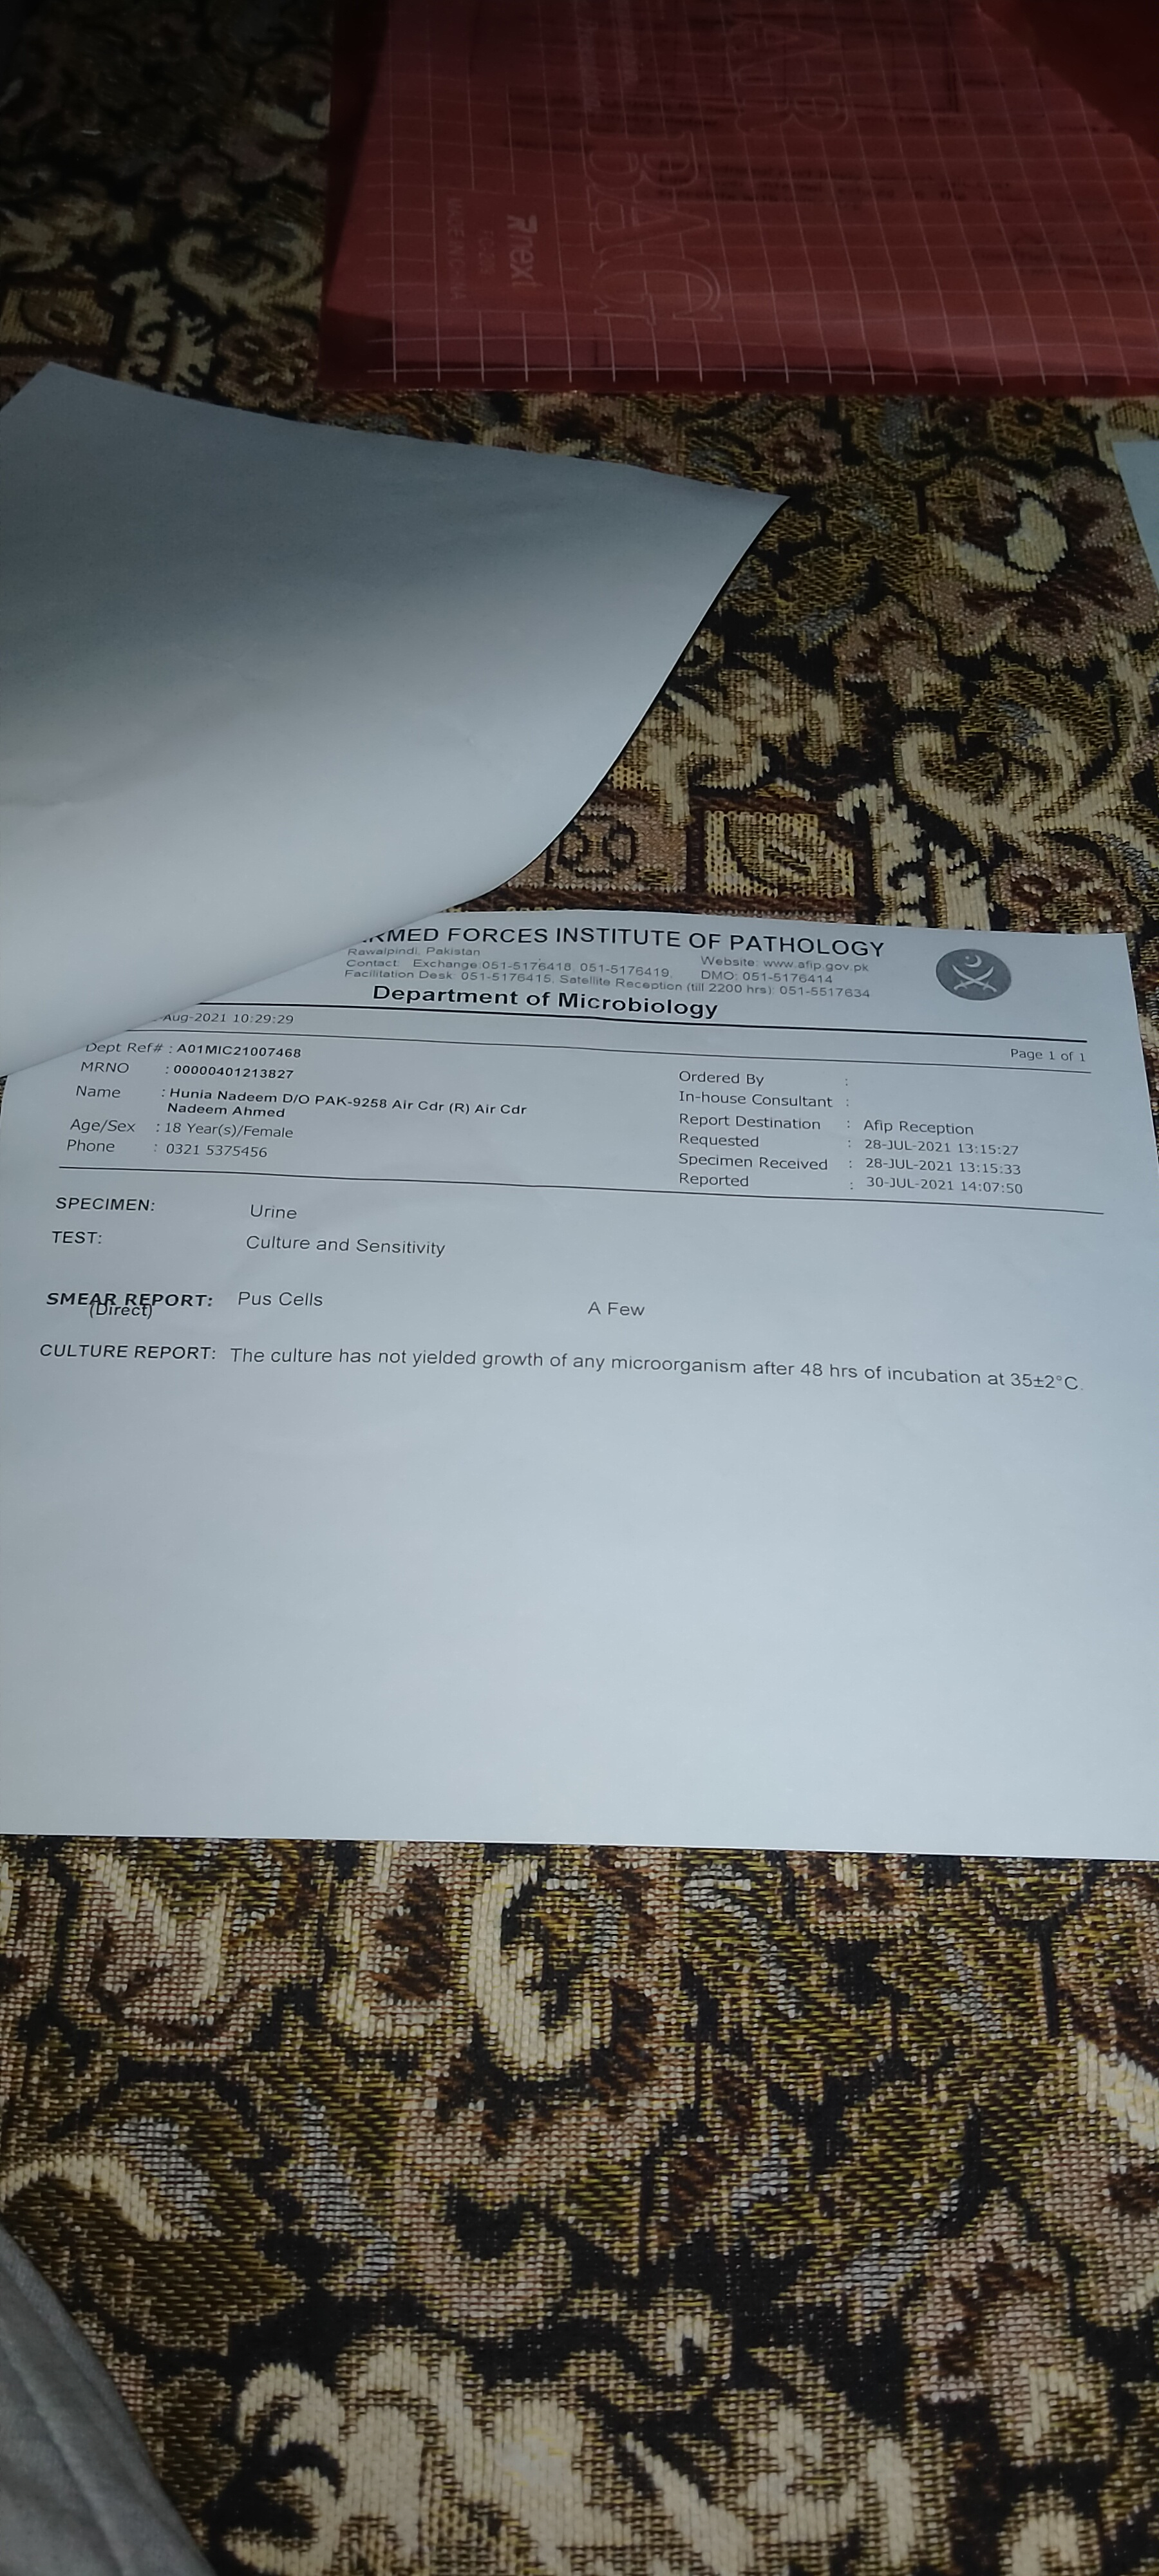report: (25, 1165, 1159, 1449)
